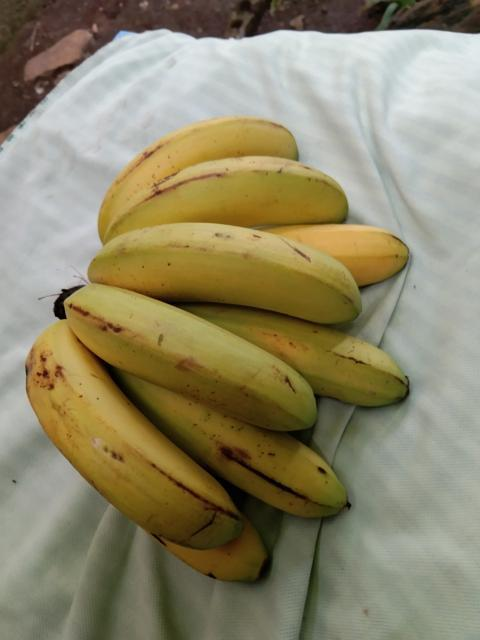ripe: (20, 345, 248, 568), (55, 283, 329, 433), (74, 214, 364, 320), (117, 143, 350, 234), (191, 412, 362, 519)
